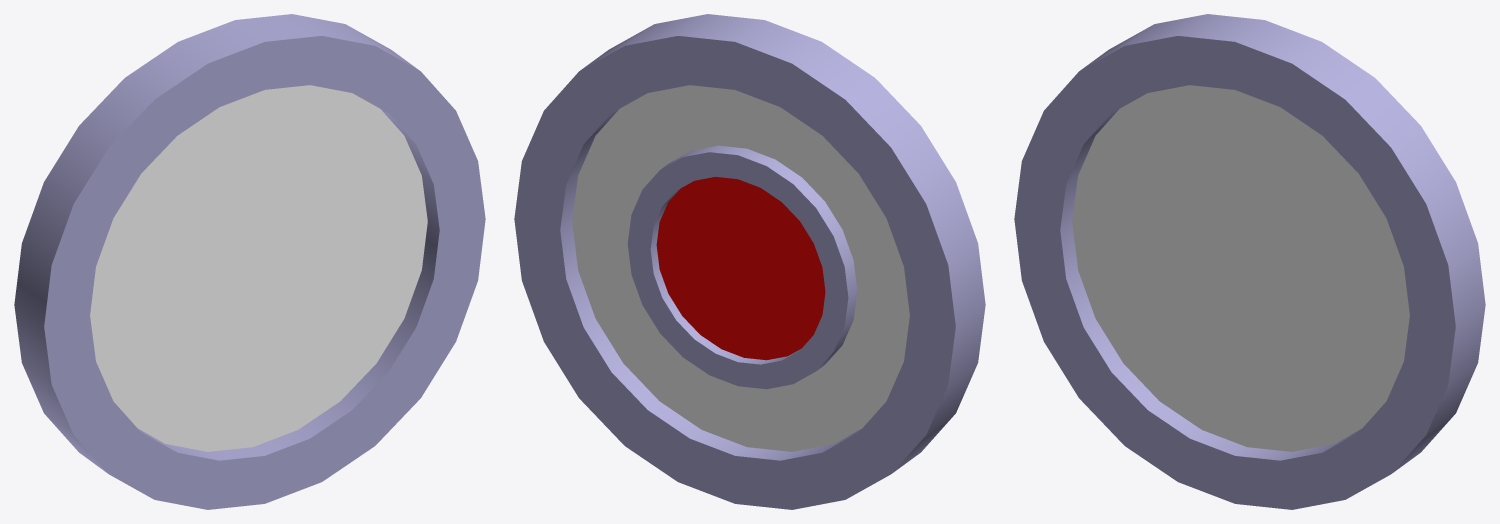
File: target2.glb
The picture shows the model from 3 angles, left to right: view 1: azimuth 30°, elevation 25°; view 2: azimuth 150°, elevation 25°; view 3: azimuth 330°, elevation 25°; orthographic projection.
Parts seen in each view (by area): view 1: window_round (×2); view 2: window_round (×3); view 3: window_round (×2).
Part boxes in pixels (left/top/right/bottom): window_round (×2): left=14, top=14, right=485, bottom=509; window_round (×3): left=514, top=14, right=985, bottom=509; window_round (×2): left=1014, top=14, right=1485, bottom=509.
Bounding box in the file's own units: 0.4277 × 0.4277 × 0.05.
